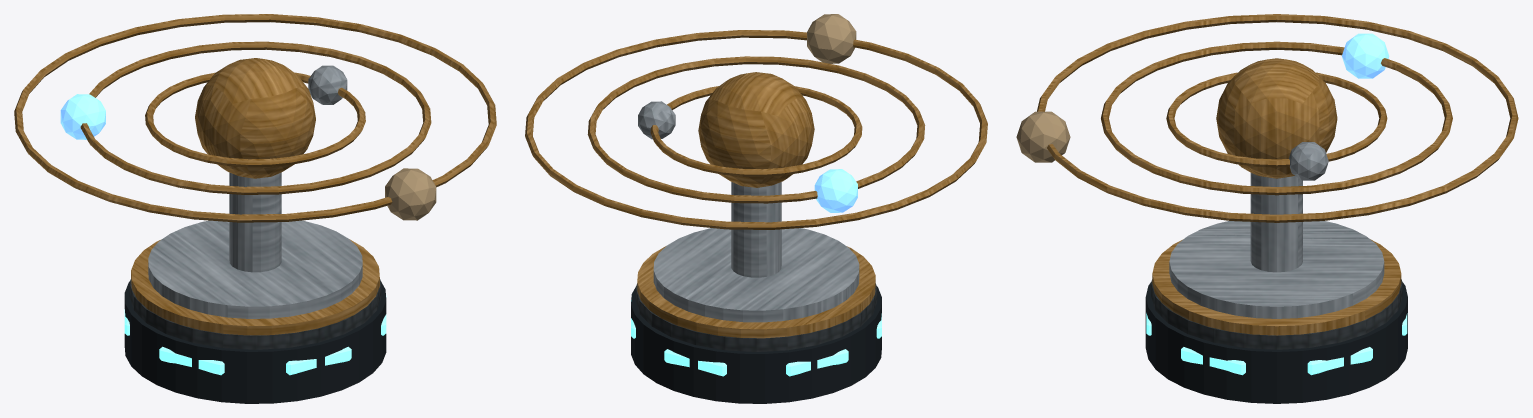
Rendered from planetary_orrery.glb.
3 renders of one model, left to right at view 1: azimuth 30°, elevation 25°; view 2: azimuth 150°, elevation 25°; view 3: azimuth 270°, elevation 25°, orthographic. The views are drawn at different scales.
Parts seen in each view (by area): view 1: orbits_brass, fixed_trim, fixed_black, fixed_brass, fixed_hull, orbits_sand, fixed_teal, orbits_blue, orbits_trim; view 2: orbits_brass, fixed_trim, fixed_black, fixed_brass, fixed_hull, orbits_sand, orbits_blue, fixed_teal, orbits_trim; view 3: orbits_brass, fixed_trim, fixed_black, fixed_brass, fixed_hull, orbits_sand, fixed_teal, orbits_blue, orbits_trim.
Part boxes in pixels (x1=…): orbits_brass: x1=14, y1=14, x2=496, y2=222; fixed_trim: x1=148, y1=172, x2=362, y2=318; fixed_black: x1=124, y1=281, x2=386, y2=403; fixed_brass: x1=131, y1=239, x2=379, y2=335; fixed_hull: x1=129, y1=279, x2=381, y2=349; orbits_sand: x1=385, y1=168, x2=436, y2=220; fixed_teal: x1=124, y1=295, x2=386, y2=375; orbits_blue: x1=60, y1=94, x2=105, y2=139; orbits_trim: x1=308, y1=65, x2=347, y2=104; orbits_brass: x1=525, y1=30, x2=987, y2=229; fixed_trim: x1=653, y1=182, x2=859, y2=322; fixed_black: x1=631, y1=286, x2=881, y2=403; fixed_brass: x1=637, y1=246, x2=875, y2=338; fixed_hull: x1=635, y1=283, x2=877, y2=351; orbits_sand: x1=807, y1=14, x2=856, y2=63; orbits_blue: x1=814, y1=169, x2=857, y2=212; fixed_teal: x1=631, y1=300, x2=881, y2=376; orbits_trim: x1=638, y1=101, x2=675, y2=139; orbits_brass: x1=1037, y1=14, x2=1518, y2=222; fixed_trim: x1=1169, y1=173, x2=1384, y2=318; fixed_black: x1=1145, y1=282, x2=1407, y2=403; fixed_brass: x1=1152, y1=239, x2=1401, y2=335; fixed_hull: x1=1151, y1=279, x2=1402, y2=349; orbits_sand: x1=1016, y1=111, x2=1070, y2=162; fixed_teal: x1=1146, y1=313, x2=1407, y2=375; orbits_blue: x1=1342, y1=33, x2=1389, y2=78; orbits_trim: x1=1289, y1=142, x2=1328, y2=180.
Bounding box in the file's own units: 0.59 × 0.384 × 0.6129.
Materials: 7 (3 with a texture image).
